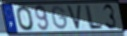3: (102, 4, 118, 31)
9: (35, 4, 51, 33)
G: (50, 5, 70, 31)
L: (85, 4, 104, 31)
O: (15, 5, 35, 32)
V: (65, 4, 83, 31)
